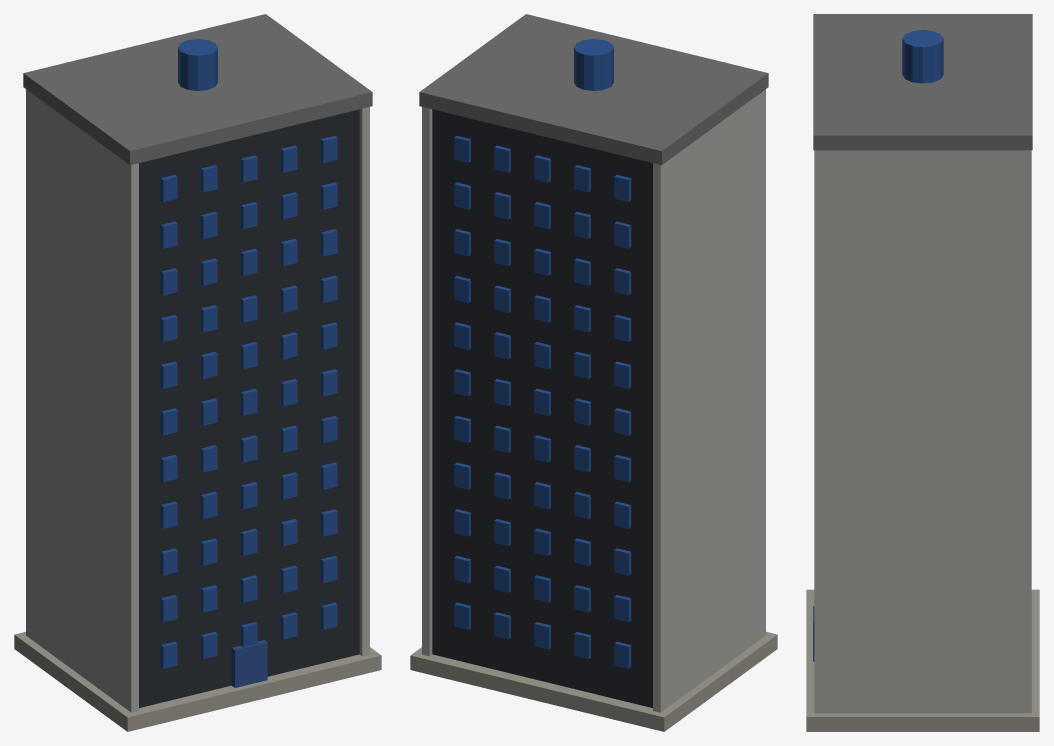
File: bld_residential_a10.glb
The picture shows the model from 3 angles, left to right: view 1: azimuth 30°, elevation 25°; view 2: azimuth 150°, elevation 25°; view 3: azimuth 270°, elevation 25°; orthographic projection. The views are drawn at different scales.
Visible parts, largest first — view 1: body; view 2: body; view 3: body.
Part boxes in pixels (box(x1,y1,x2,y2)): body: box(14, 14, 381, 731); body: box(410, 14, 777, 731); body: box(806, 14, 1039, 731).
Size of what is drawn, in the model's own units: 6.6 by 15.2 by 5.1.
